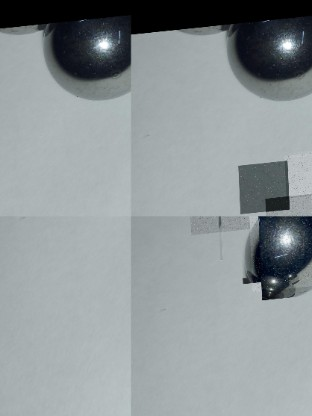ironball: (227, 13, 310, 108), (46, 18, 135, 100), (247, 216, 312, 275), (257, 275, 295, 298)
